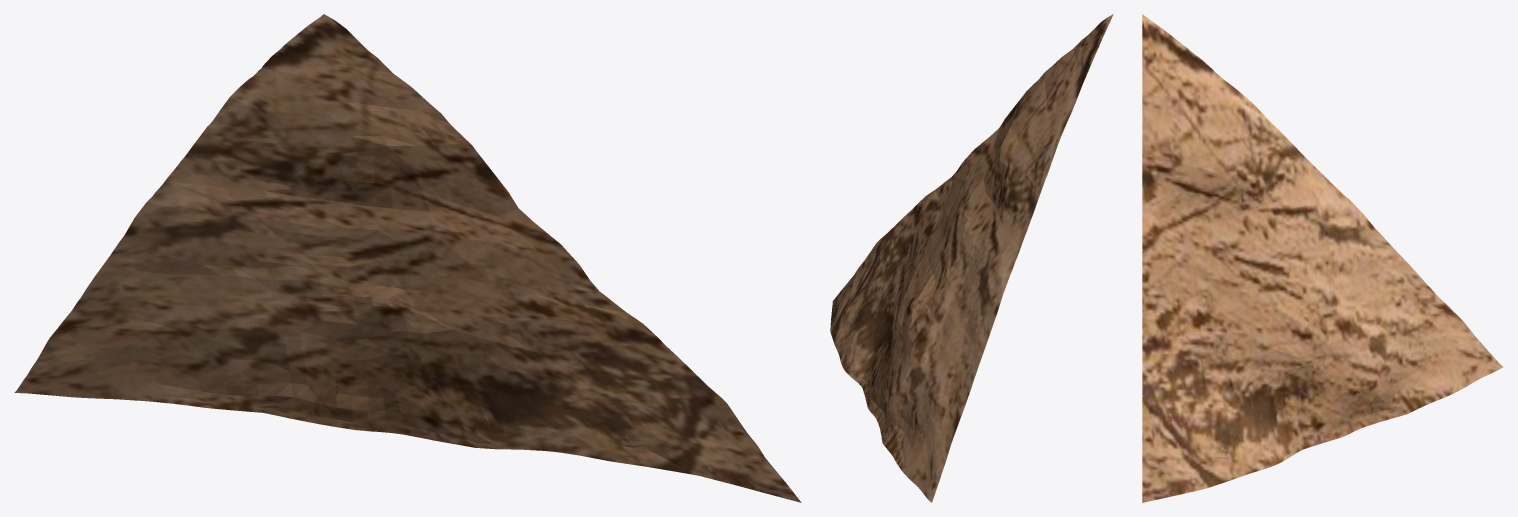
3 views of the same model, side by side, from view 1: azimuth 30°, elevation 25°; view 2: azimuth 150°, elevation 25°; view 3: azimuth 270°, elevation 25° (orthographic). The views are drawn at different scales.
Bounding box in the file's own units: 0.4781 × 0.5788 × 0.5364.
Materials: 1 (1 with a texture image).
